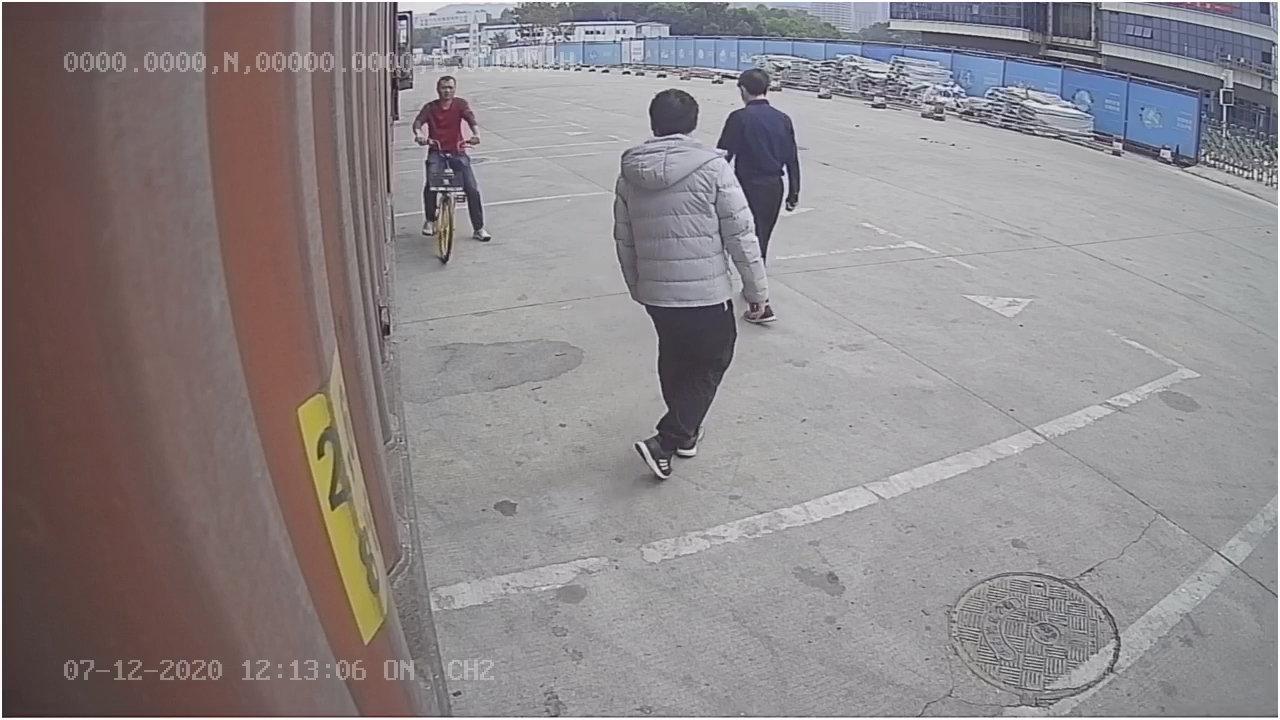person: (610, 90, 767, 481)
